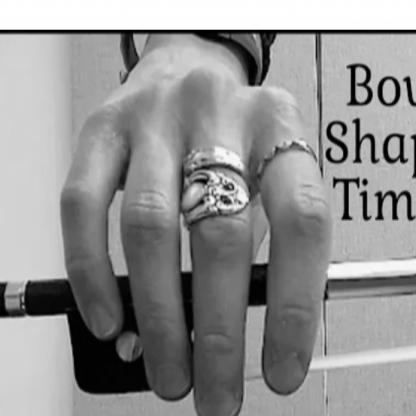good: (48, 55, 335, 411)
